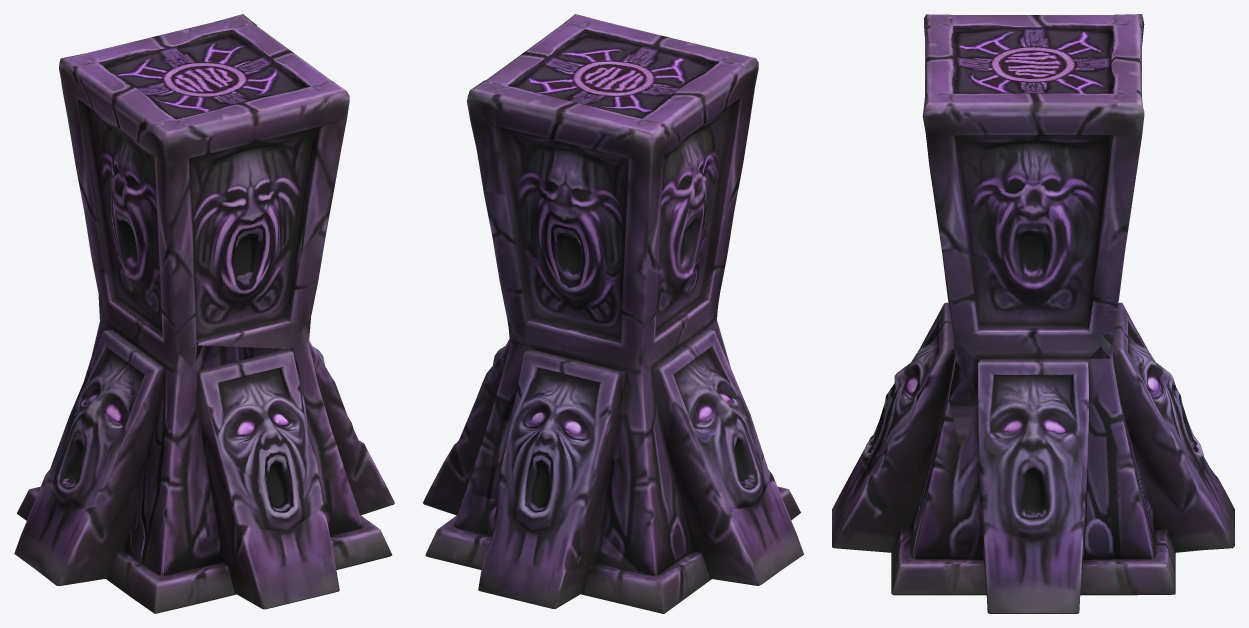
The model's file is Whispering_Obelisk-marker-web.glb.
The picture shows the model from 3 angles, left to right: view 1: azimuth 30°, elevation 25°; view 2: azimuth 150°, elevation 25°; view 3: azimuth 270°, elevation 25°; orthographic projection. The views are drawn at different scales.
Size of the model in its own units: 1.53 by 2 by 1.53.
Materials: 1 (1 with a texture image).
